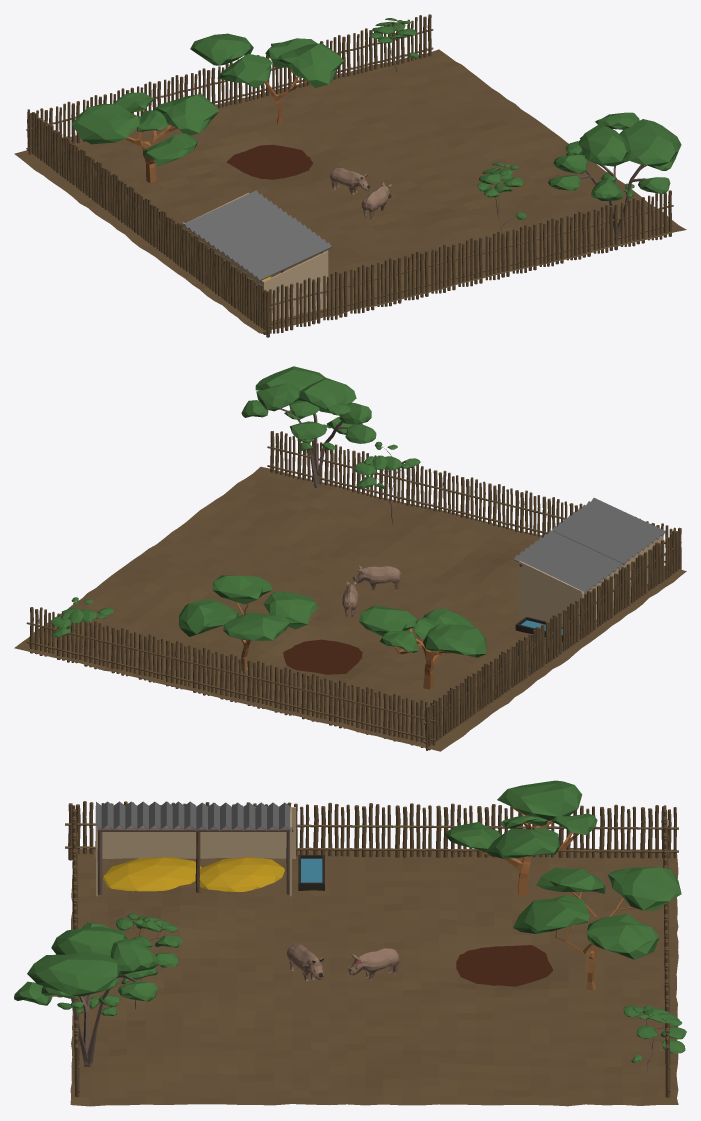
The model's file is RhinoSanctuaryMerged.fbx.
3 renders of one model, top to bottom at view 1: azimuth 30°, elevation 25°; view 2: azimuth 150°, elevation 25°; view 3: azimuth 270°, elevation 25°, orthographic. The views are drawn at different scales.
Parts seen in each view (by area): view 1: Plane, Fence.001, Cylinder.001, Monae Tree Large, Acacia2Trunk, Acacia1Trunk, Plane.001, Mopane Tree, Mopane Tree.001, Rhino, Rhino.001; view 2: Plane, Fence.001, Cylinder.001, Monae Tree Large, Acacia1Trunk, Acacia2Trunk, Plane.001, Mopane Tree, Mopane Tree.001, Rhino.001; view 3: Plane, Fence.001, Cylinder.001, Monae Tree Large, Acacia1Trunk, Acacia2Trunk, Icosphere, Plane.001, Mopane Tree.001, Mopane Tree, Rhino, Cube.006 (+1 smaller).
Boxes of the visible parts, bbox=[...] form: Plane: bbox=[14, 49, 686, 333]; Fence.001: bbox=[26, 14, 673, 337]; Cylinder.001: bbox=[182, 190, 333, 320]; Monae Tree Large: bbox=[548, 112, 681, 240]; Acacia2Trunk: bbox=[71, 92, 218, 183]; Acacia1Trunk: bbox=[190, 33, 343, 124]; Plane.001: bbox=[226, 144, 312, 179]; Mopane Tree: bbox=[477, 162, 526, 232]; Mopane Tree.001: bbox=[370, 18, 419, 71]; Rhino: bbox=[330, 168, 369, 194]; Rhino.001: bbox=[361, 182, 391, 219]; Plane: bbox=[14, 466, 686, 751]; Fence.001: bbox=[26, 431, 681, 750]; Cylinder.001: bbox=[513, 498, 665, 631]; Monae Tree Large: bbox=[241, 366, 376, 487]; Acacia1Trunk: bbox=[178, 575, 317, 671]; Acacia2Trunk: bbox=[359, 605, 486, 689]; Plane.001: bbox=[283, 639, 362, 674]; Mopane Tree: bbox=[354, 441, 420, 524]; Mopane Tree.001: bbox=[51, 597, 113, 652]; Rhino.001: bbox=[352, 565, 402, 590]; Plane: bbox=[70, 848, 678, 1106]; Fence.001: bbox=[65, 801, 678, 1097]; Cylinder.001: bbox=[95, 801, 295, 896]; Monae Tree Large: bbox=[14, 922, 159, 1066]; Acacia1Trunk: bbox=[513, 867, 681, 990]; Acacia2Trunk: bbox=[445, 780, 597, 896]; Icosphere: bbox=[102, 856, 284, 891]; Plane.001: bbox=[456, 945, 552, 986]; Mopane Tree.001: bbox=[623, 1005, 686, 1072]; Mopane Tree: bbox=[116, 913, 181, 1009]; Rhino: bbox=[348, 948, 399, 980]; Cube.006: bbox=[298, 855, 324, 890].
Bounding box in the file's own units: 1212 × 344 × 1341.
